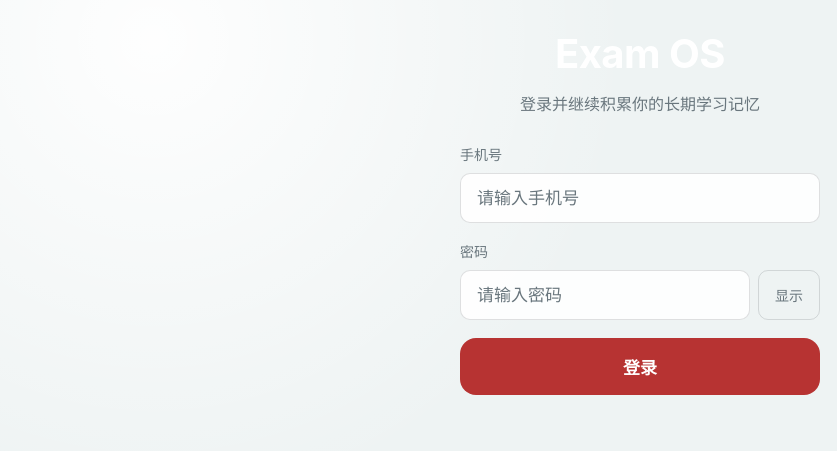
Test case: AccountLoginView › shows only mapped user-facing failures
Type "13812345678" into the field labelled "手机号".
click(640, 198); type("13812345678")  # box [460, 173, 820, 223]
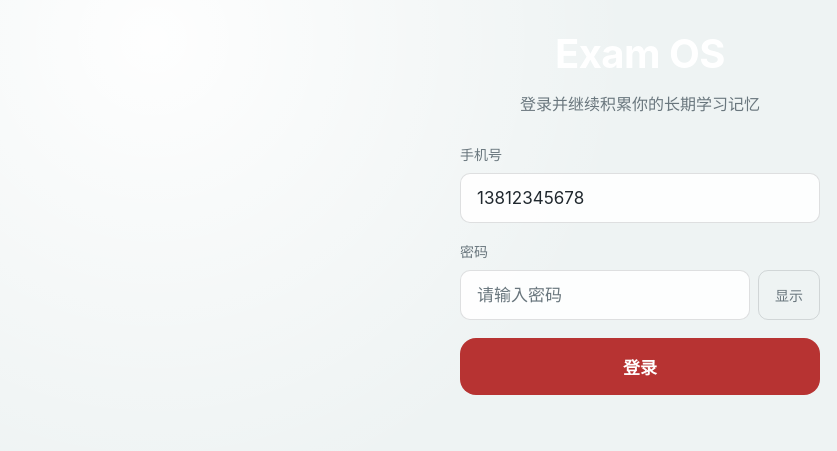
Type "Correct-Horse_2026!" into the password field labelled "密码".
click(605, 295); type("Correct-Horse_2026!")  # box [460, 270, 750, 320]
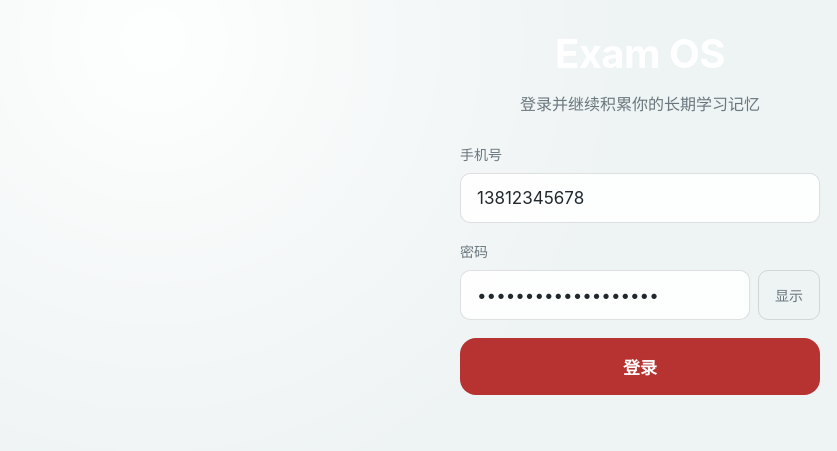
Click the button "登录".
click(640, 366)  # box [460, 338, 820, 395]
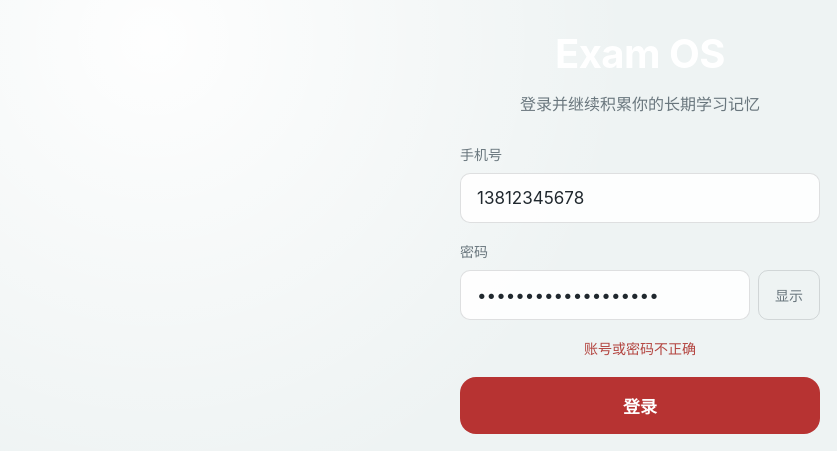
Expected: the text "账号或密码不正确" is shown, [584, 340, 696, 357]
